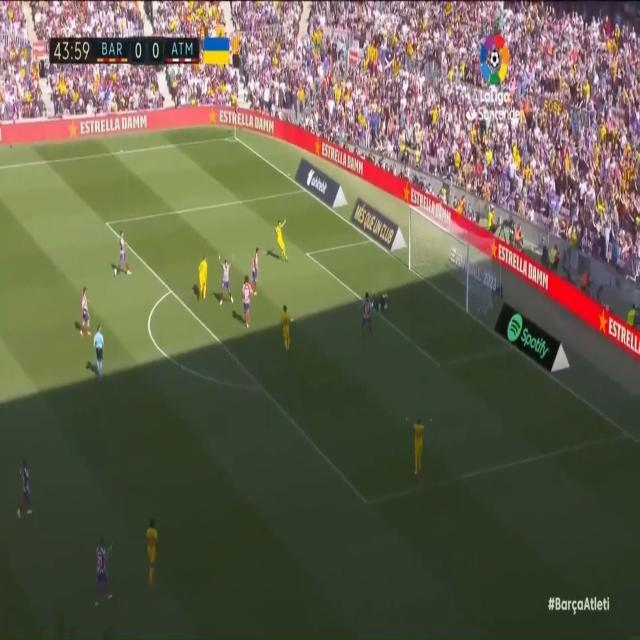goalkeeper: (369, 291, 393, 312)
player: (403, 409, 436, 475), (92, 529, 119, 608), (139, 516, 168, 588), (14, 453, 36, 521), (271, 217, 293, 271), (219, 255, 239, 313), (74, 277, 92, 340), (280, 300, 297, 362), (111, 232, 134, 276), (246, 245, 262, 304), (241, 271, 254, 332), (200, 242, 211, 305), (361, 289, 374, 340)
referee: (90, 324, 109, 377)
